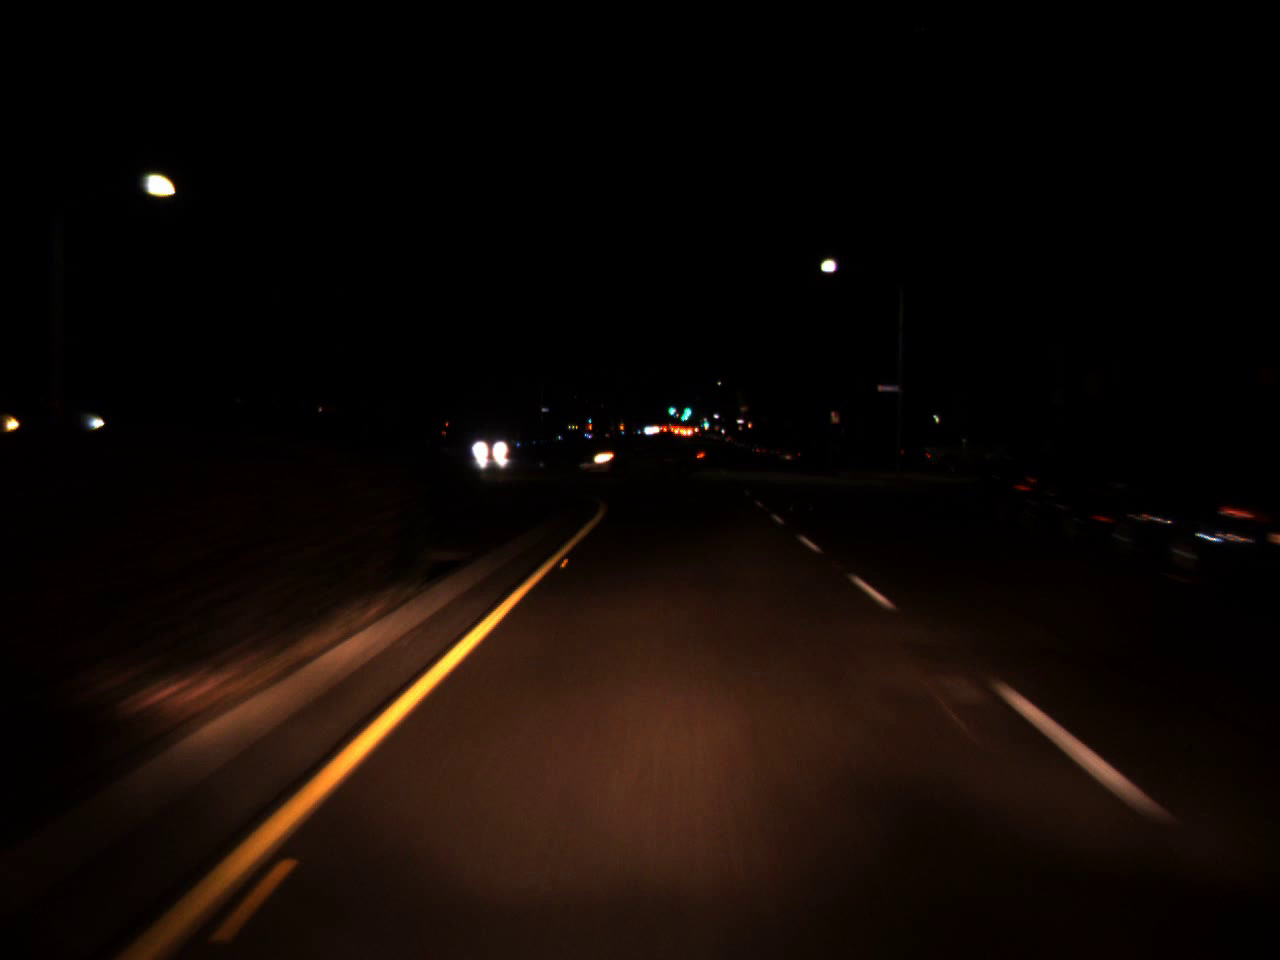go: (678, 395, 692, 422), (668, 397, 675, 418), (703, 416, 710, 428)
